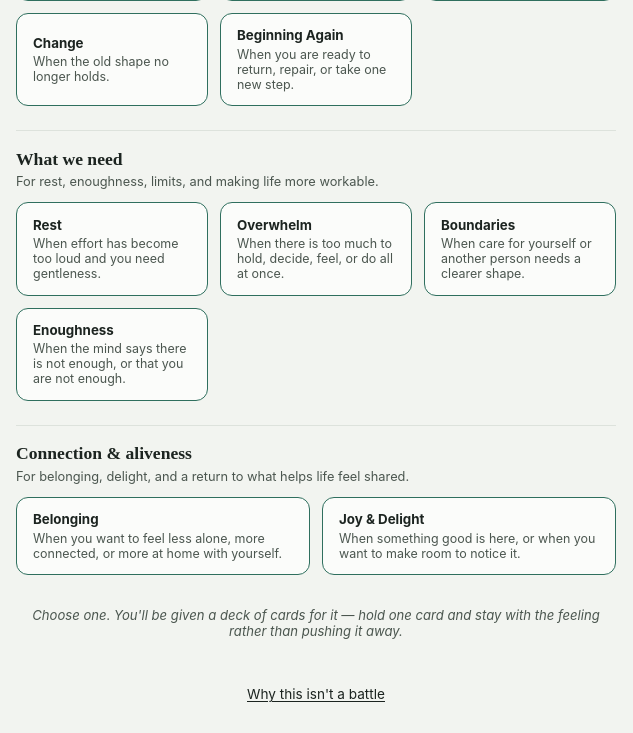
Test case: navigation › shows the intro again from check-in's 'why' link
(page scrolled)
Click the button "Why this isn't a battle". click: (316,694)
box: x1=243 y1=672 x2=389 y2=716
(page scrolled)
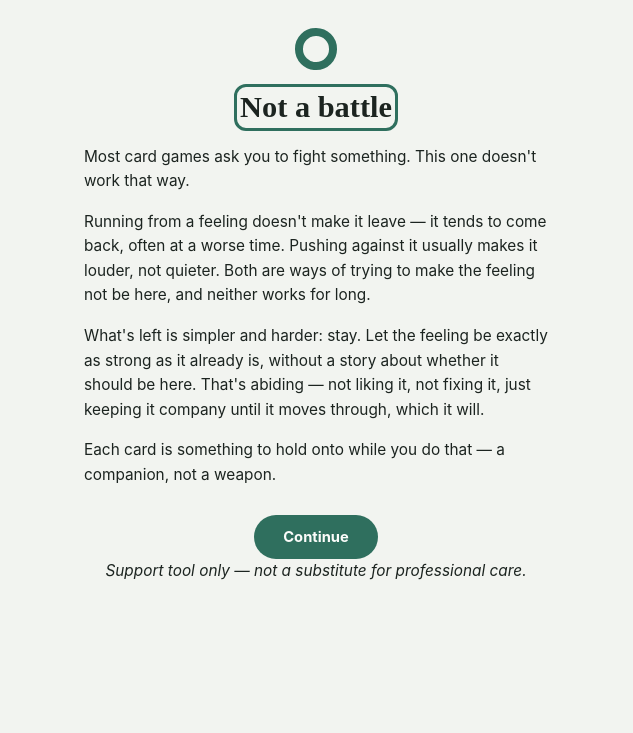
Expected: the heading "Not a battle" is shown, x1=240 y1=90 x2=392 y2=125
